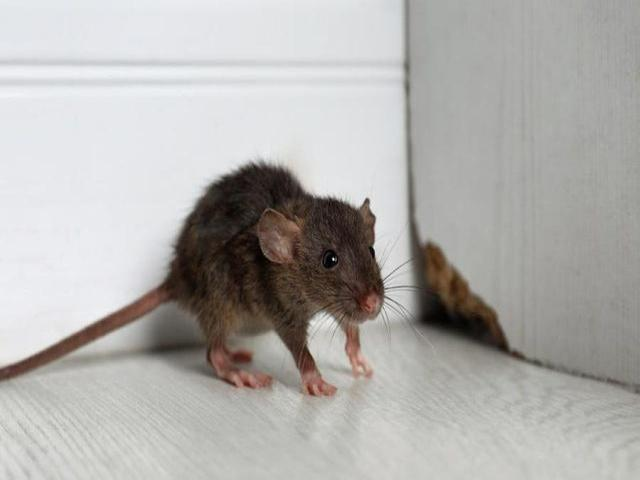Tikus: (0, 159, 386, 399)
